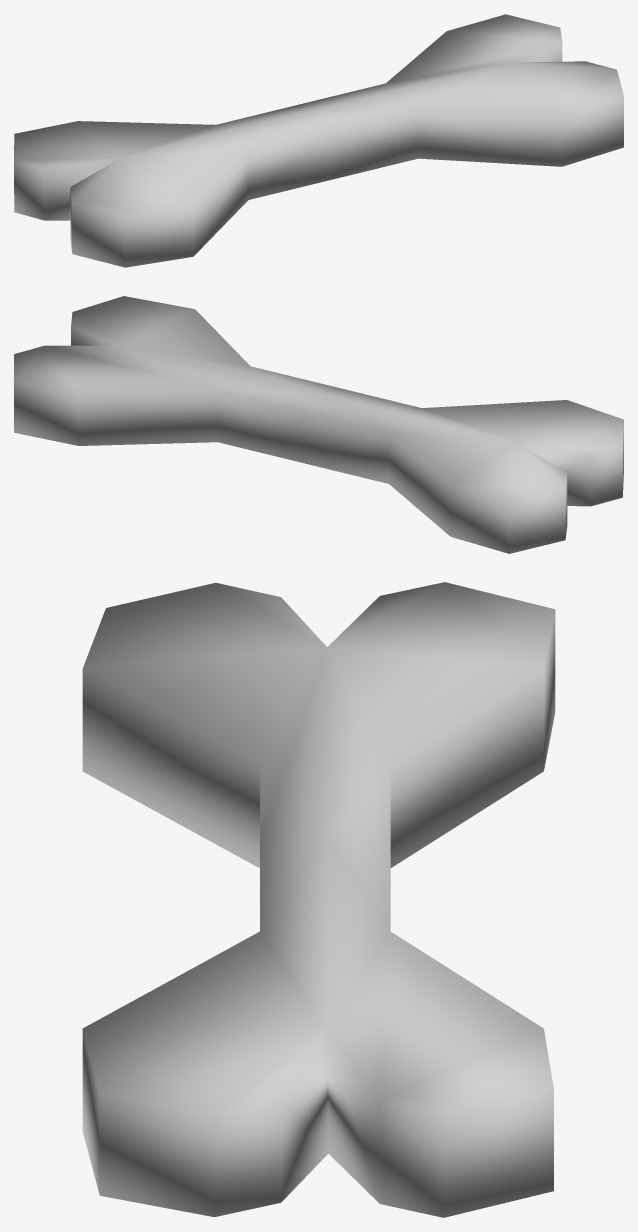
Rendered from Dog Bone.FBX.
3 views of the same model, one above another, from view 1: azimuth 30°, elevation 25°; view 2: azimuth 150°, elevation 25°; view 3: azimuth 270°, elevation 25° (orthographic). The views are drawn at different scales.
Visible parts, largest first — view 1: Bone; view 2: Bone; view 3: Bone.
Boxes of the visible parts, x1,y1,x2,y2 form: Bone: [14, 14, 623, 267]; Bone: [14, 296, 623, 553]; Bone: [82, 582, 555, 1217].
Bounding box in the file's own units: 100 × 11.02 × 37.61.
